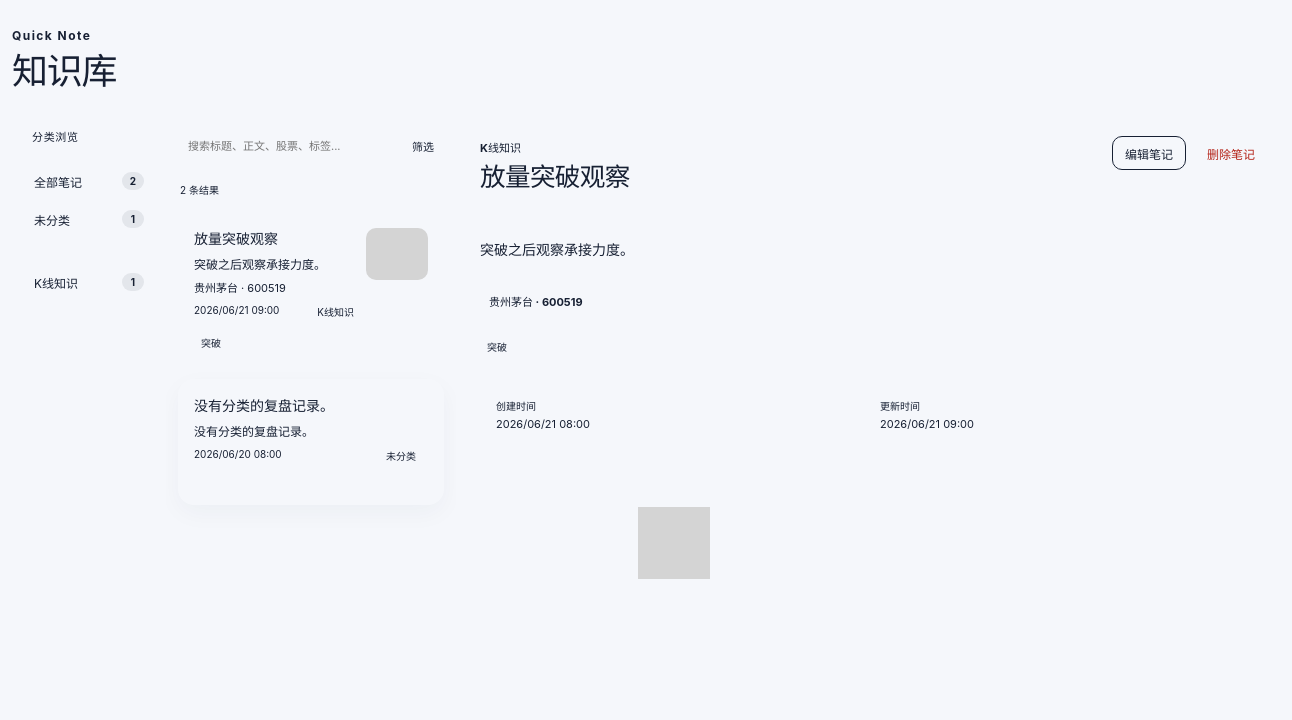
knowledge library › requires confirmation, deletes locally, and selects the next remaining note
This screenshot has width=1292, height=720.
Expected: the heading "放量突破观察" is shown, [480,161,630,193]
What coordinates should you click on to do the following:
click the button "删除笔记"
I would click on:
 (1231, 153)
Its box is [1194,136,1268,170].
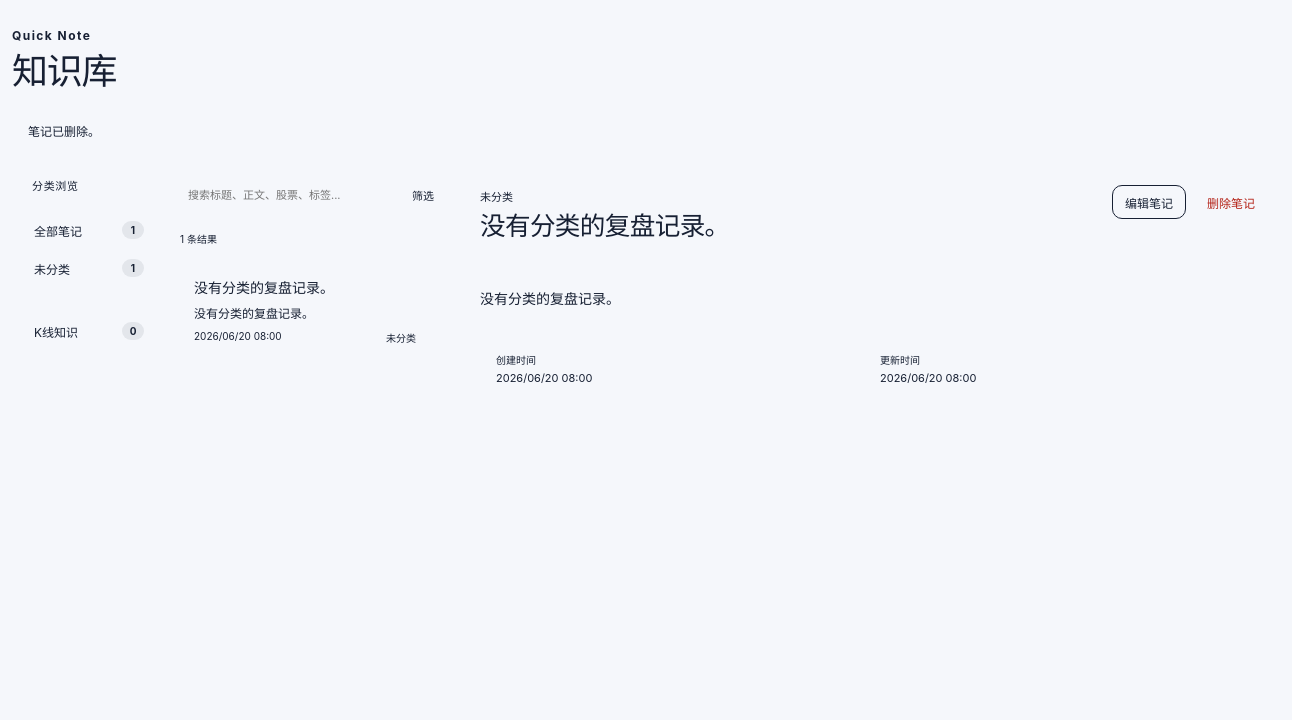
Now the heading "没有分类的复盘记录。" is shown, box [480,210,730,242]
